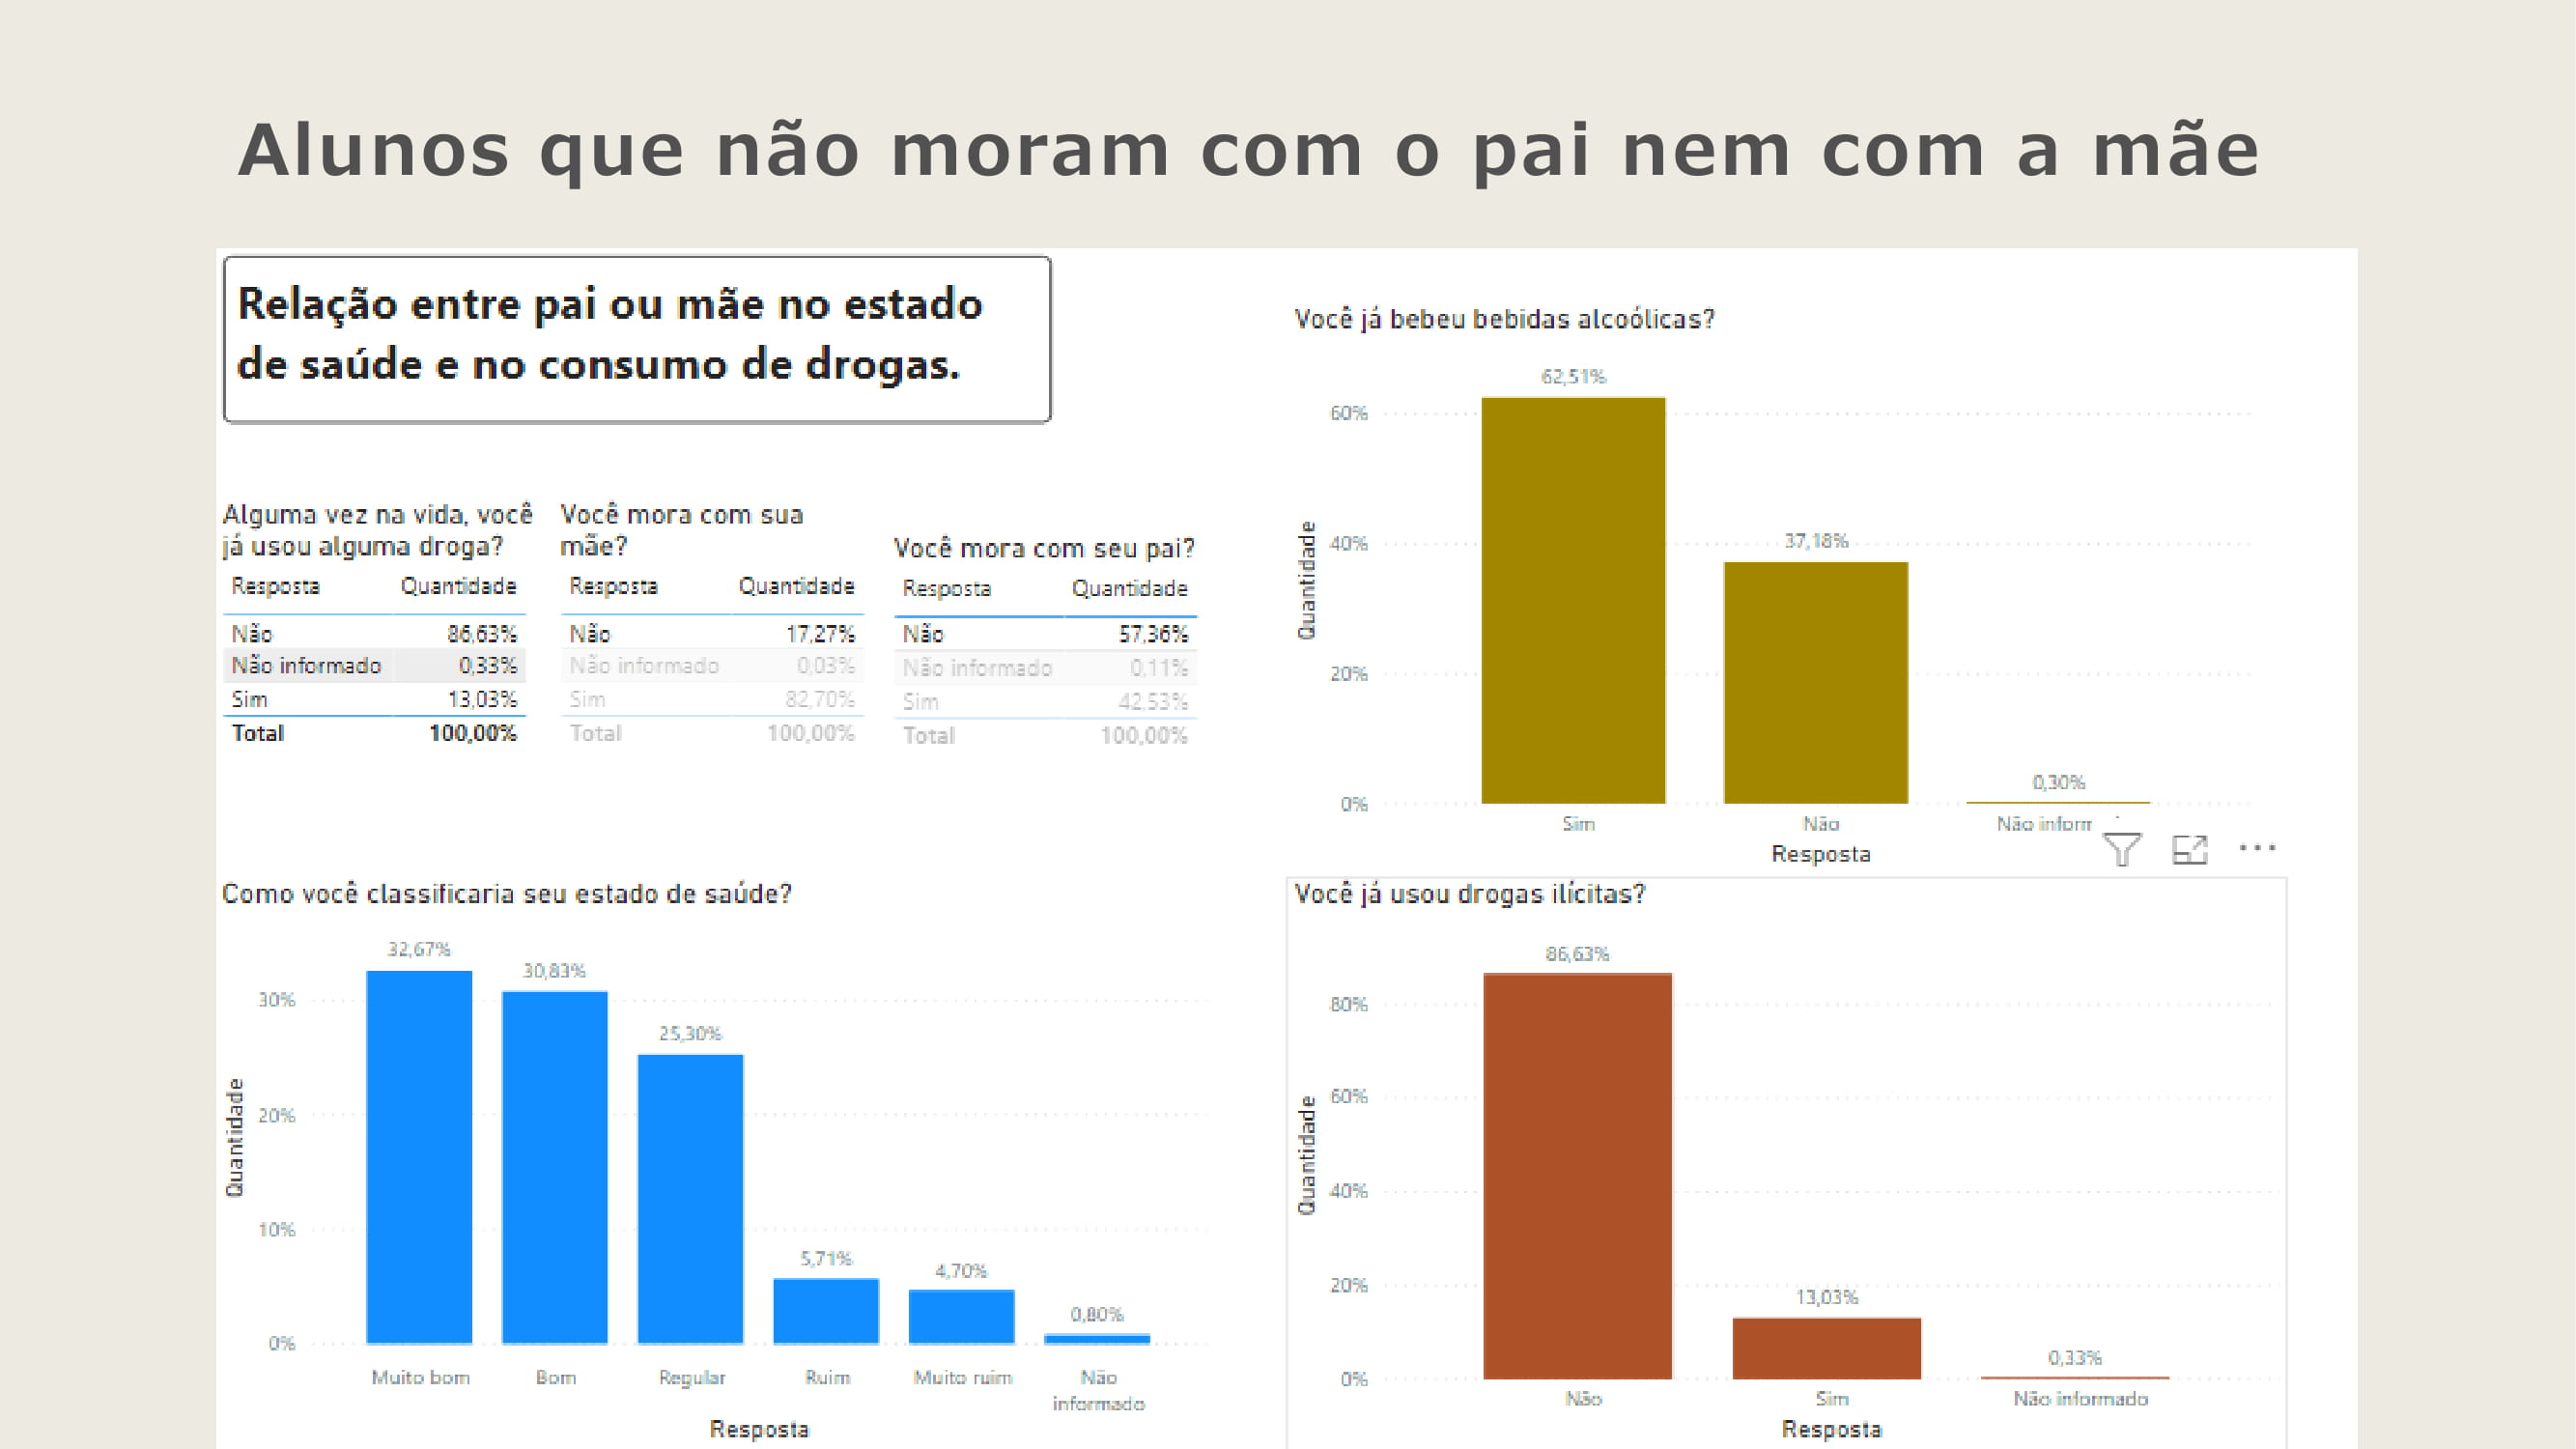

Layout of this report page (visuals, bound fields, positions):
{"tool":"powerbi","page":{"name":"Drogas saúde pais","canvas":[1280,720],"ordinal":1},"visuals":[{"type":"tableEx","title":"Alguma vez na vida, você já usou alguma droga?","fields":{"Values":["P_Já usou drogas ilícitas?.Resposta","Sum(Respotas_Questionario.cont)"]},"box":[0,149.6,202,171.7],"z":0},{"type":"clusteredColumnChart","title":"Você já bebeu bebidas alcoólicas?","fields":{"Y":["Sum(Respotas_Questionario.cont)"],"Category":["P_Já usou álcool?.Resposta"]},"box":[640.6,33.2,585.8,343.4],"z":1000},{"type":"tableEx","title":"Você mora com seu pai?","fields":{"Values":["P_Você mora com seu pai?.Resposta","Sum(Respotas_Questionario.cont)"]},"box":[401.5,170.6,197.7,146.4],"z":2000},{"type":"tableEx","title":"Você mora com sua mãe?","fields":{"Values":["P_Você mora com sua mãe?.Resposta","Sum(Respotas_Questionario.cont)"]},"box":[202,149.6,199.1,171.7],"z":3000},{"type":"textbox","box":[5.8,5.8,494.9,99.6],"z":4000},{"type":"clusteredColumnChart","title":"Como você classificaria seu estado de saúde?","fields":{"Category":["P_Como você classificaria seu estado de saúde?.Resposta"],"Y":["Sum(Respotas_Questionario.cont)"]},"box":[0,376.6,599.2,343.2],"z":5000},{"type":"clusteredColumnChart","title":"Você já usou drogas ilícitas?","fields":{"Category":["P_Já usou drogas ilícitas?.Resposta"],"Y":["Sum(Respotas_Questionario.cont)"]},"box":[640.6,376.6,598.8,343.4],"z":6000}]}

Visuals, with their boxes in screenshot pixels (x1, y1, x2, y2), scaled from the page's 1280x720 canvas onto the 2576x1449 screenshot:
"Alguma vez na vida, você já usou alguma droga?" tableEx: (0, 301, 407, 646)
"Você já bebeu bebidas alcoólicas?" clusteredColumnChart: (1289, 67, 2468, 758)
"Você mora com seu pai?" tableEx: (808, 343, 1205, 638)
"Você mora com sua mãe?" tableEx: (407, 301, 807, 646)
textbox: (12, 12, 1007, 213)
"Como você classificaria seu estado de saúde?" clusteredColumnChart: (0, 758, 1205, 1448)
"Você já usou drogas ilícitas?" clusteredColumnChart: (1289, 758, 2494, 1448)
